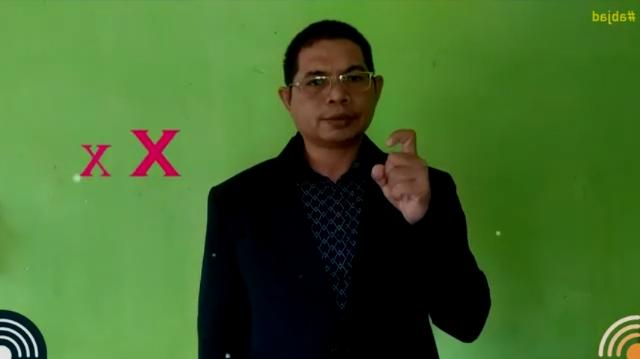X: (368, 127, 432, 218)
